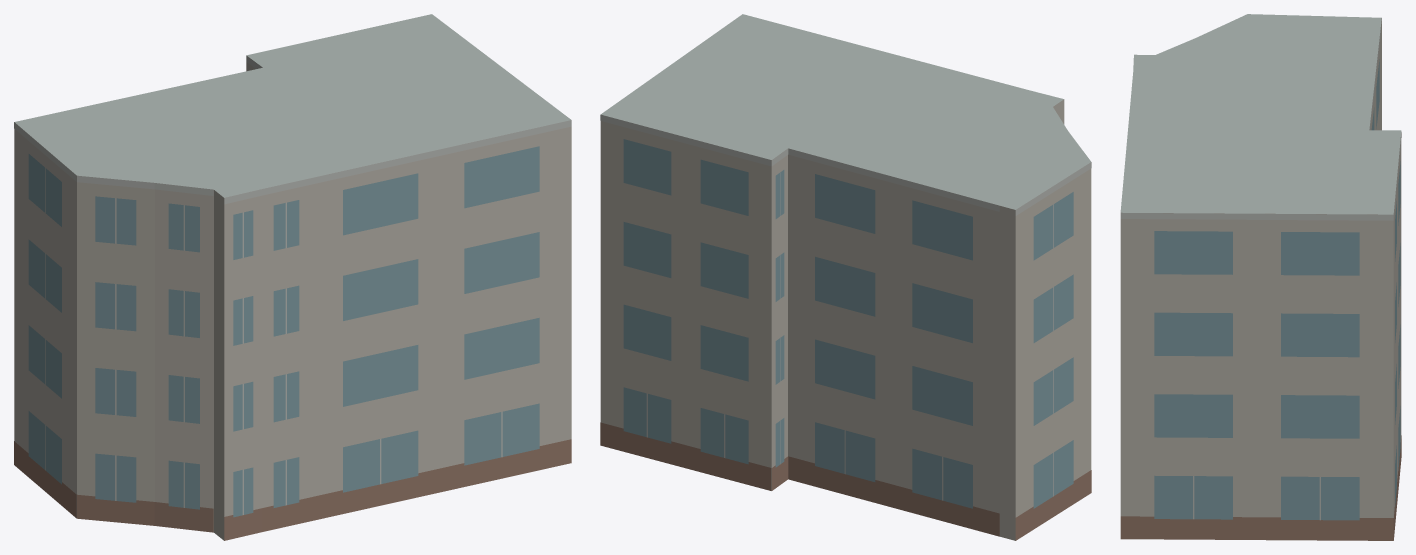
The model's file is survey-upis-33025396.glb.
The picture shows the model from 3 angles, left to right: view 1: azimuth 30°, elevation 25°; view 2: azimuth 150°, elevation 25°; view 3: azimuth 270°, elevation 25°; orthographic projection. The views are drawn at different scales.
Parts seen in each view (by area): view 1: survey-upis-33025396.tmp; view 2: survey-upis-33025396.tmp; view 3: survey-upis-33025396.tmp.
Boxes of the visible parts, x1,y1,x2,y2 form: survey-upis-33025396.tmp: (14,14,571,540); survey-upis-33025396.tmp: (600,14,1091,540); survey-upis-33025396.tmp: (1120,14,1401,540).
Size of the model in its own units: 16.88 by 12.8 by 10.
